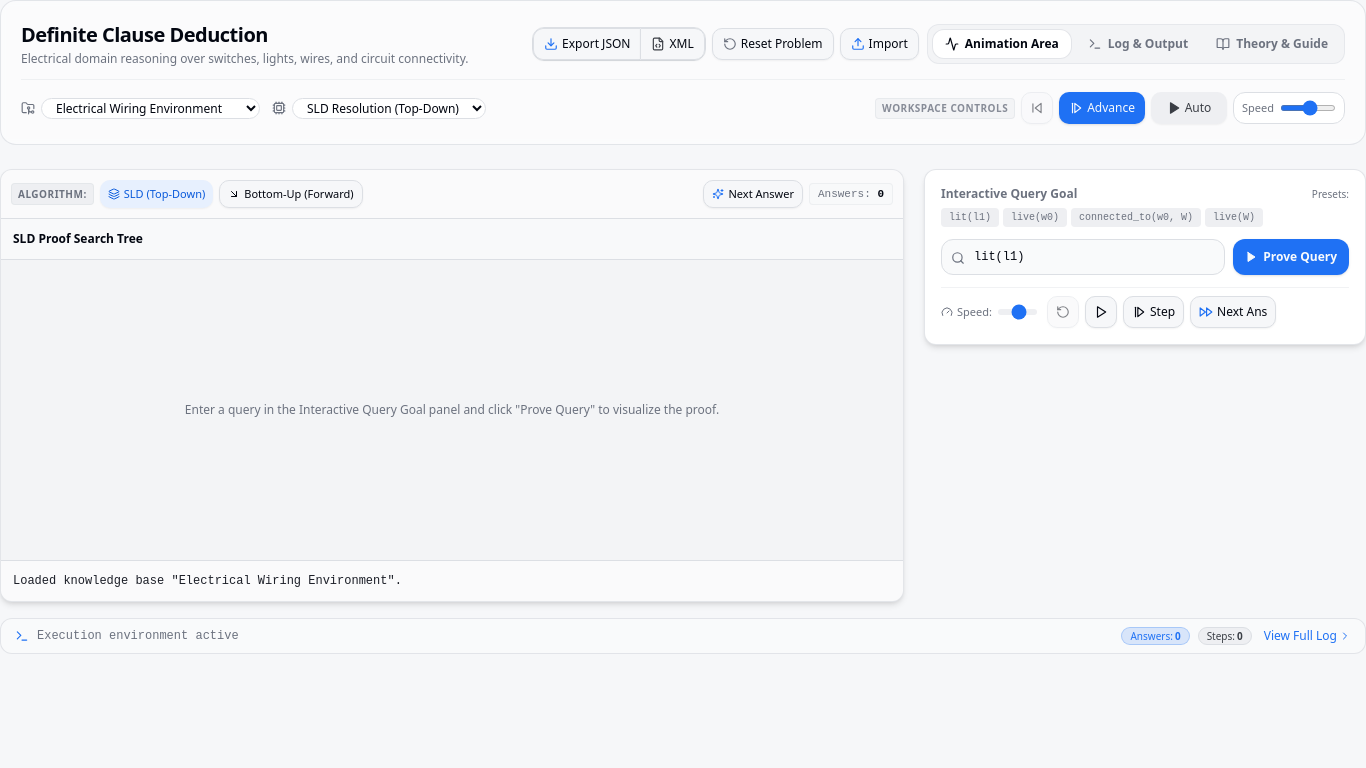
Usability Feedback Fixes Verification › 1. Definite Clause Deduction › displays 'In Progress' badge and synchronized step count on initial active step
Expected: the text "Enter a query in the Interactive Query Goal panel and click \"Prove Query\"" is shown, [185, 401, 719, 418]
Click Advance in header controls or Step in panel
Click the button "Advance" at point(1102, 108), box [1059, 92, 1145, 124]
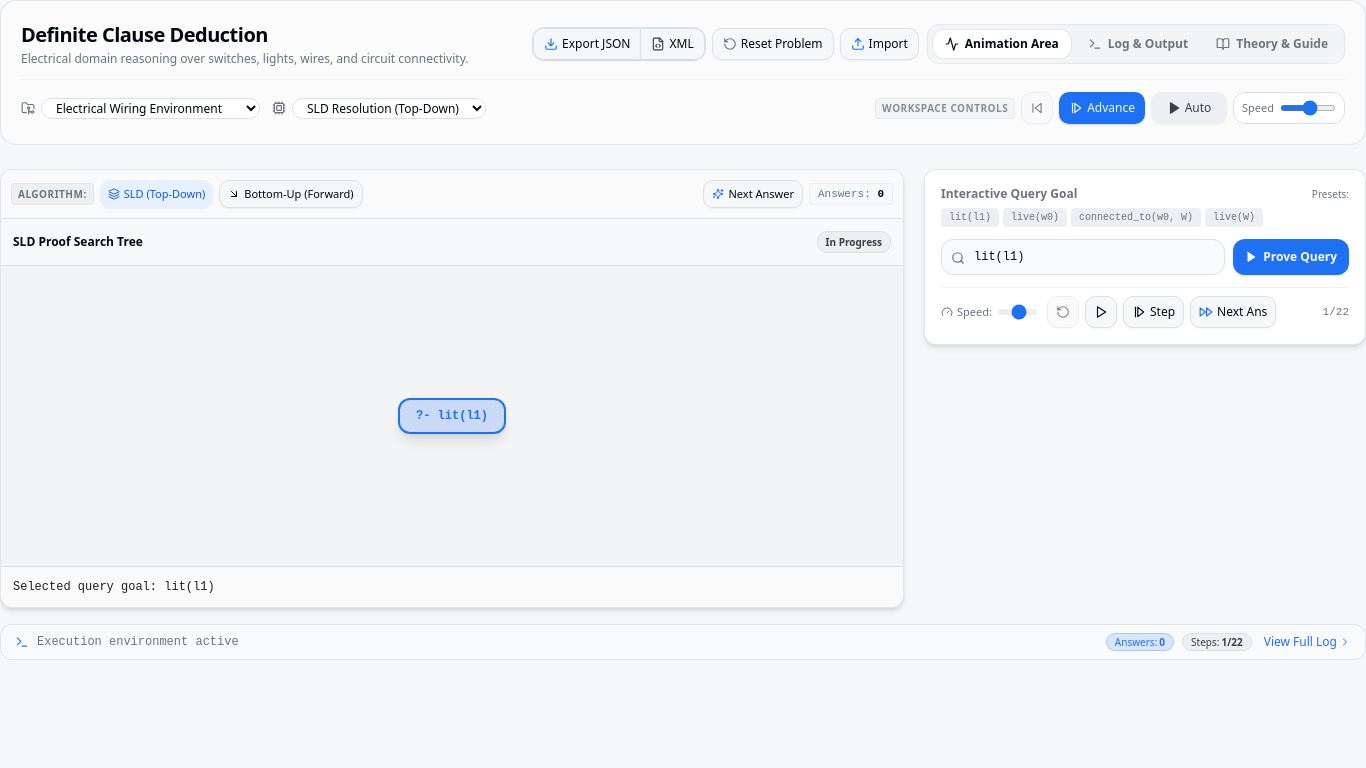
Expected: the text "In Progress" is shown, [817, 231, 891, 253]
Expected: the text "Selected query goal: lit(l1)" is shown, [13, 580, 215, 594]
Expected: the text "1/22" below "Interactive Query Goal" is shown, [1323, 304, 1349, 320]
